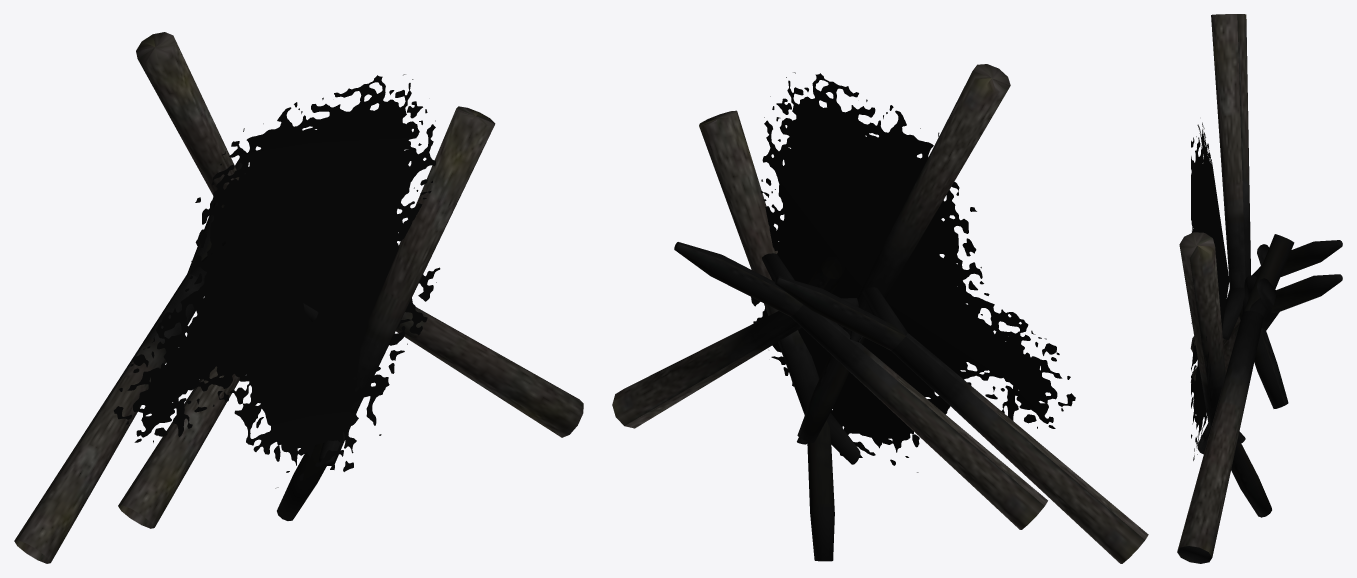
Rendered from fireplace_small_burned.fbx.
The picture shows the model from 3 angles, left to right: view 1: azimuth 30°, elevation 25°; view 2: azimuth 150°, elevation 25°; view 3: azimuth 270°, elevation 25°; orthographic projection. The views are drawn at different scales.
Parts seen in each view (by area): view 1: Cylinder_005; view 2: Cylinder_005; view 3: Cylinder_005.
Boxes of the visible parts, <box> form: Cylinder_005: <box>14,32,583,563</box>; Cylinder_005: <box>612,64,1148,563</box>; Cylinder_005: <box>1177,14,1342,563</box>.
Size of the model in its own units: 0.8993 by 0.8257 by 0.2782.
